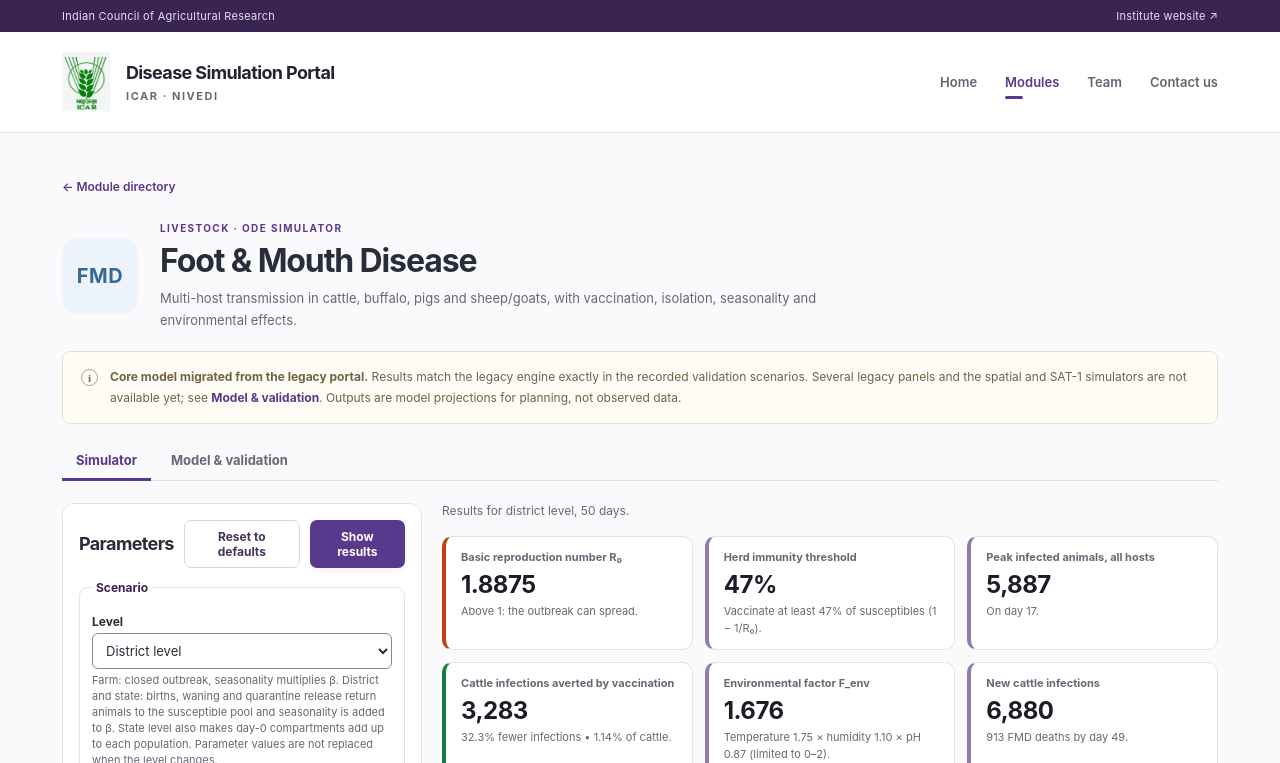
FMD simulator › applies the level and seasonality like the legacy page
This screenshot has width=1280, height=763.
Select "Farm level" in the dropdown labelled "Level" at (242, 651), box [92,633,392,669]
(page scrolled)
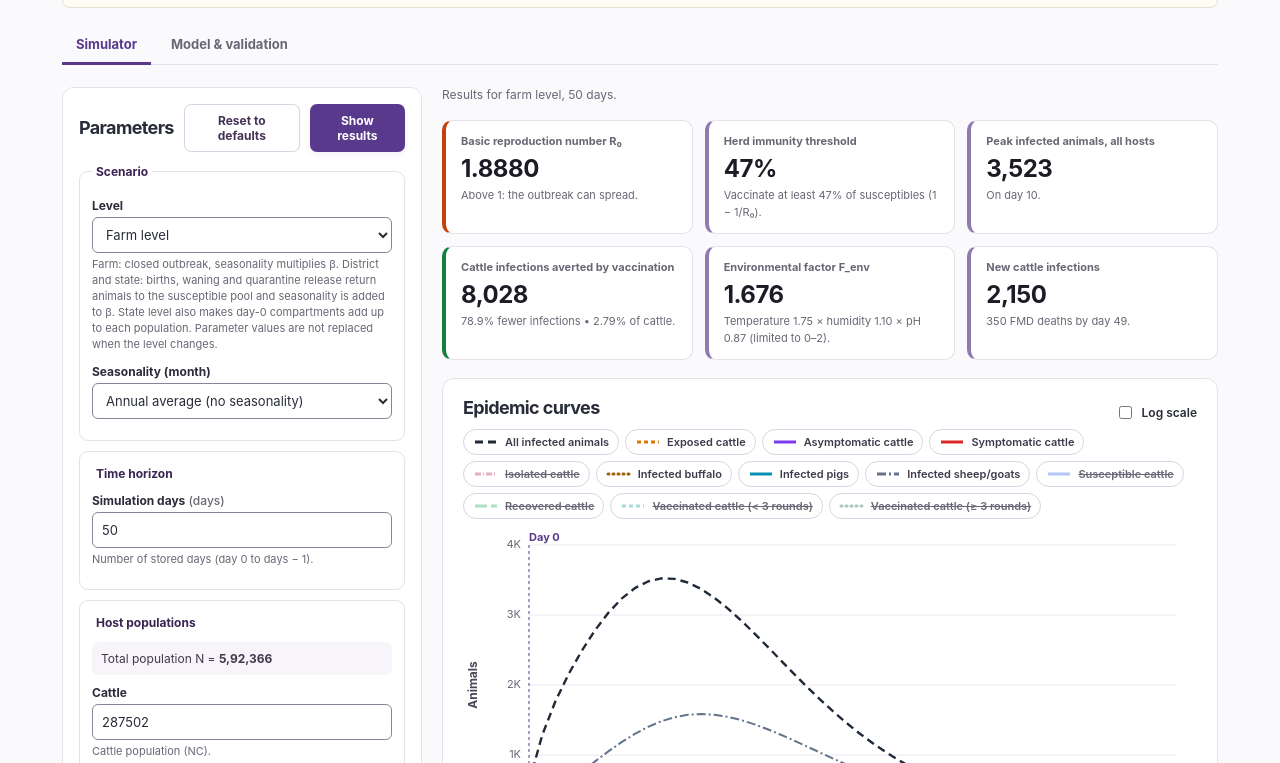
Select "November (1.51×)" in the dropdown labelled "Seasonality (month)" at (242, 401), box [92,383,392,419]
(page scrolled)
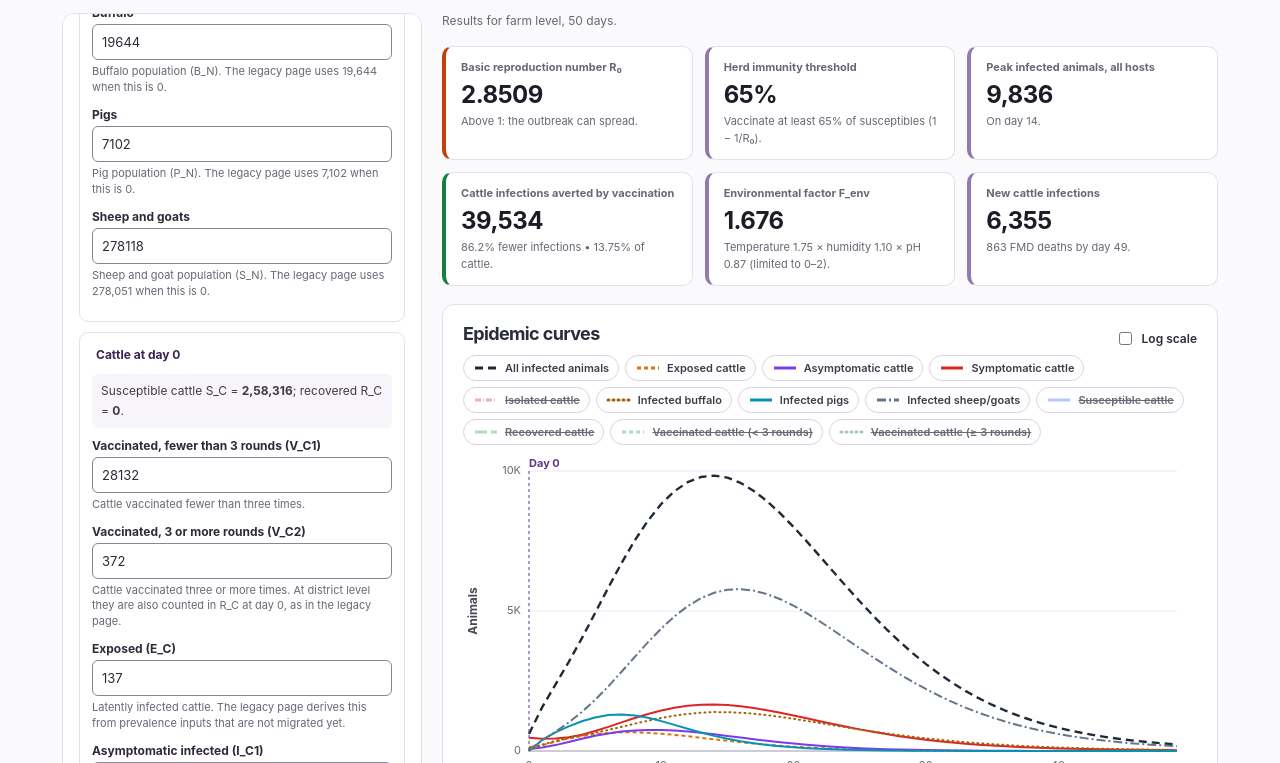
Result: the text "Susceptible cattle S_C = 2,58,316; recovered R_C = 0." is shown at [92,374,392,428]
